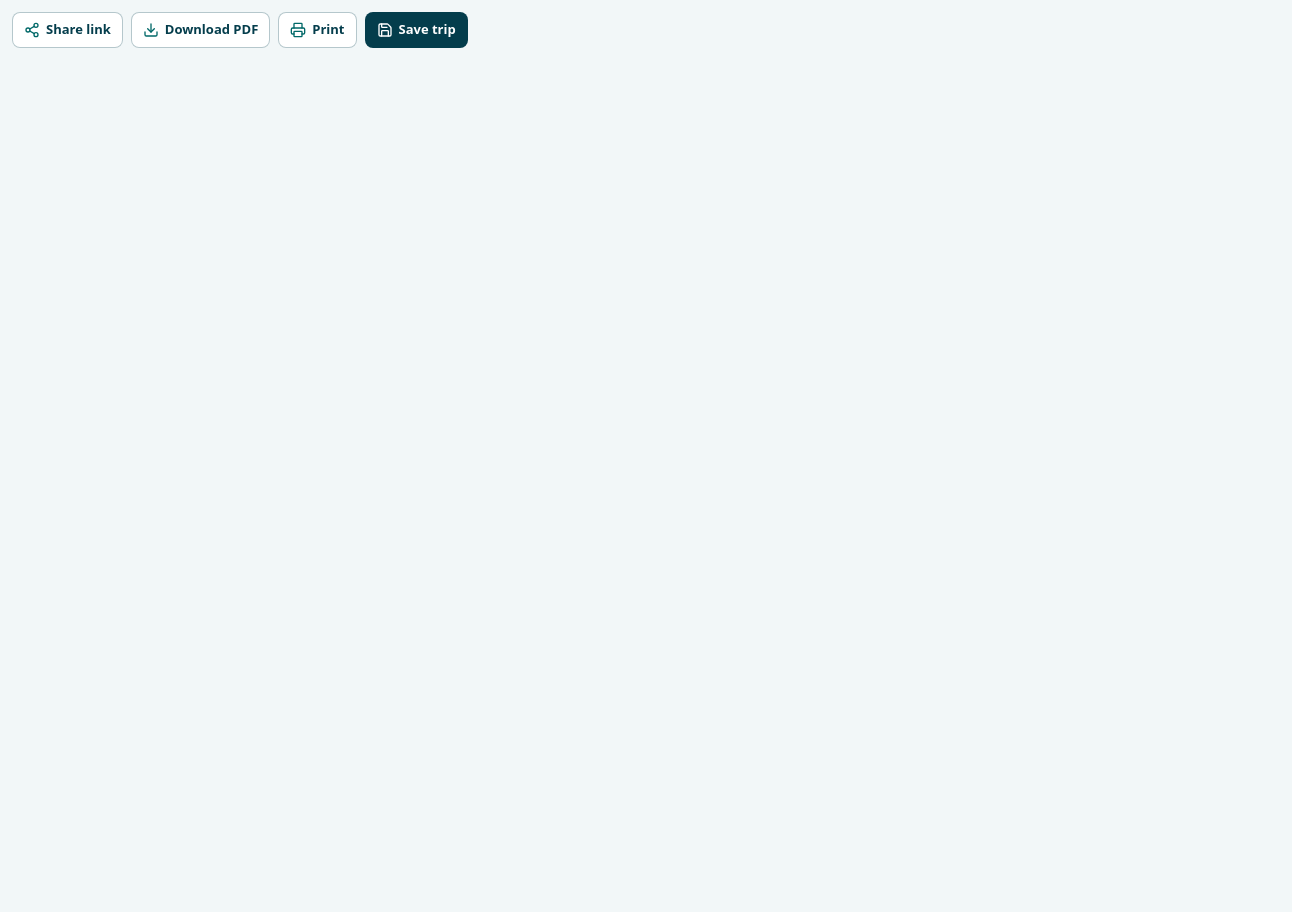
PDF download › uses the singular for one sheet
Click the button with test id "btn-pdf" at point(201, 30), box [131,12,270,48]
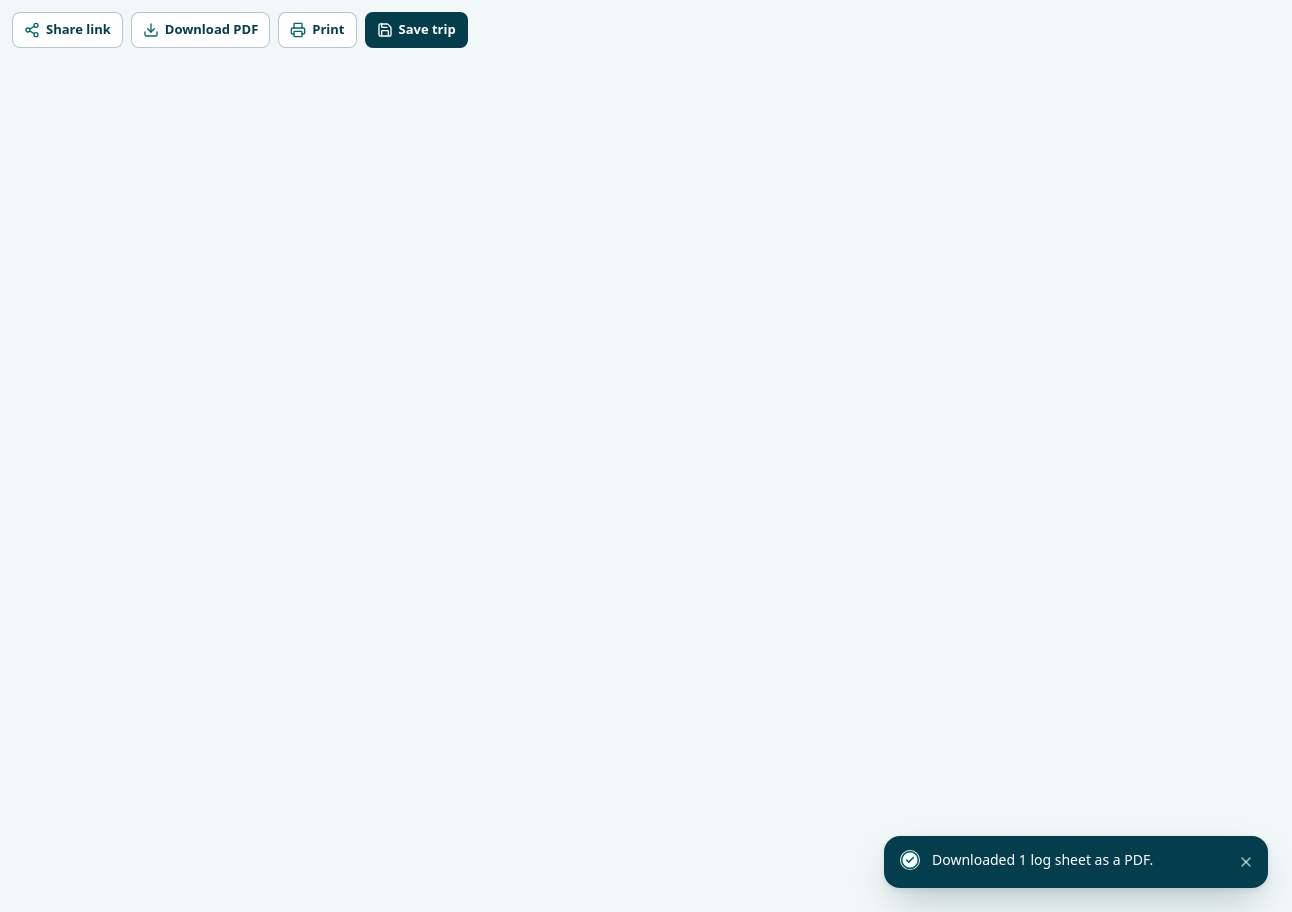
Expected: the text "Downloaded 1 log sheet as a PDF." is shown, [932,850,1153,869]
